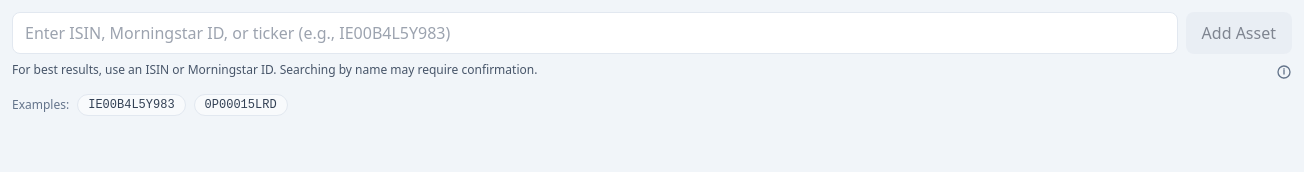
Test: AssetInput › successful resolution › should clear input after successful resolution
Type "IE00B4L5Y983" into the field named "Asset identifier input" at (595, 33), box [12,12,1178,54]
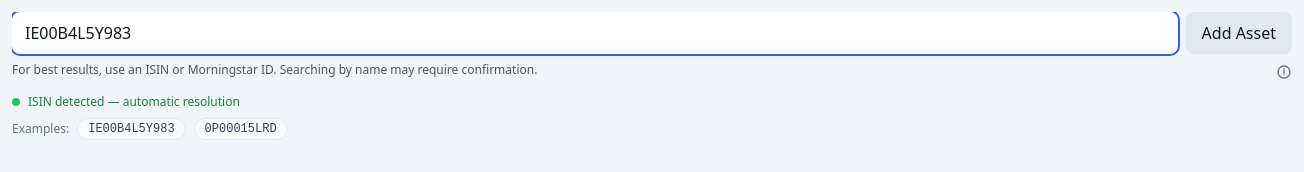
Click the button "Add Asset" at (1239, 33), box [1186,12,1292,54]
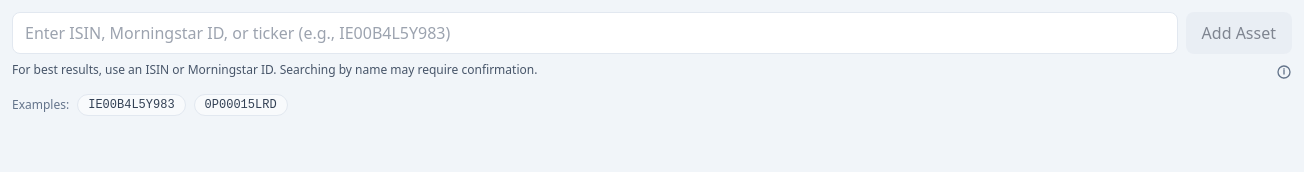
Check: the field named "Asset identifier input" is empty, box [12,12,1178,54]
